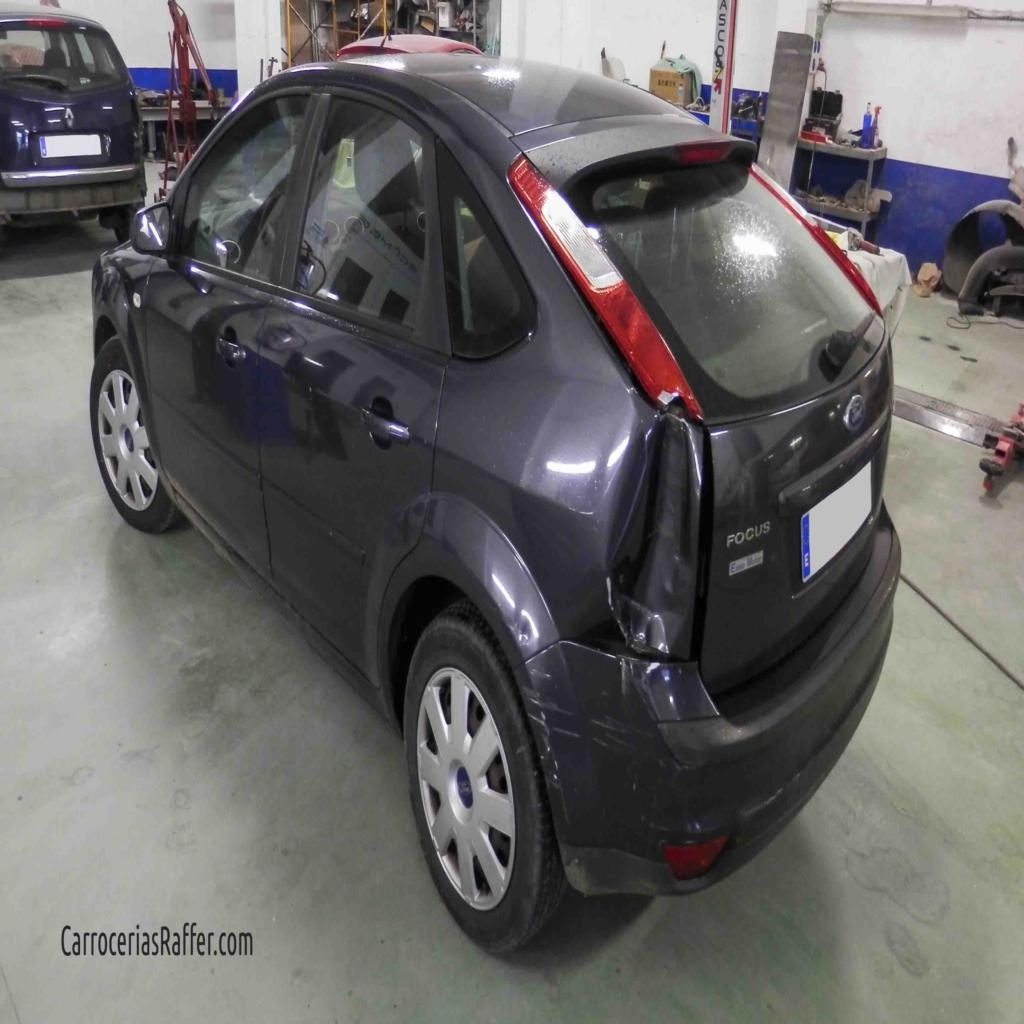Broken-glass: (580, 261, 721, 421)
Dent: (606, 421, 711, 668)
Scratch: (532, 663, 647, 783)
